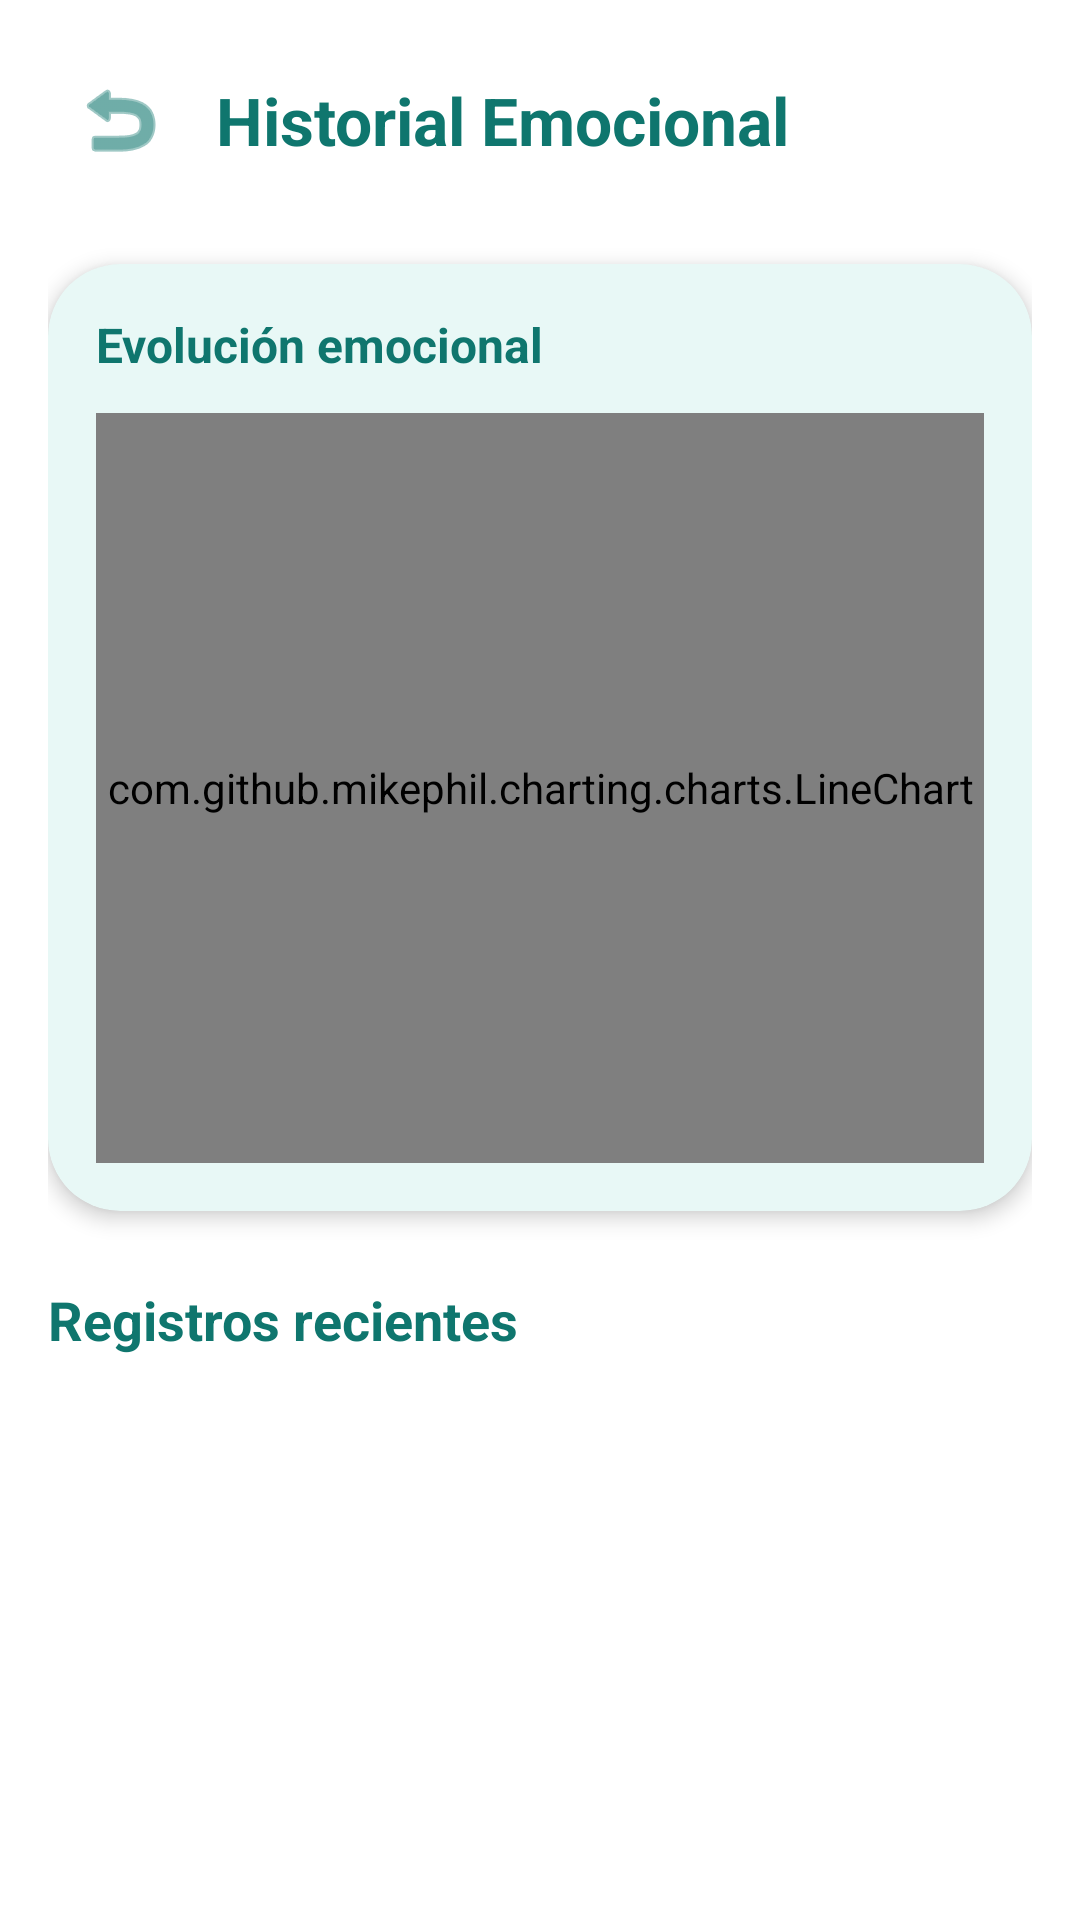

Icon click points for this 1080x1920 phone screenshot, format point (x, y):
Atrás: point (121, 120)
